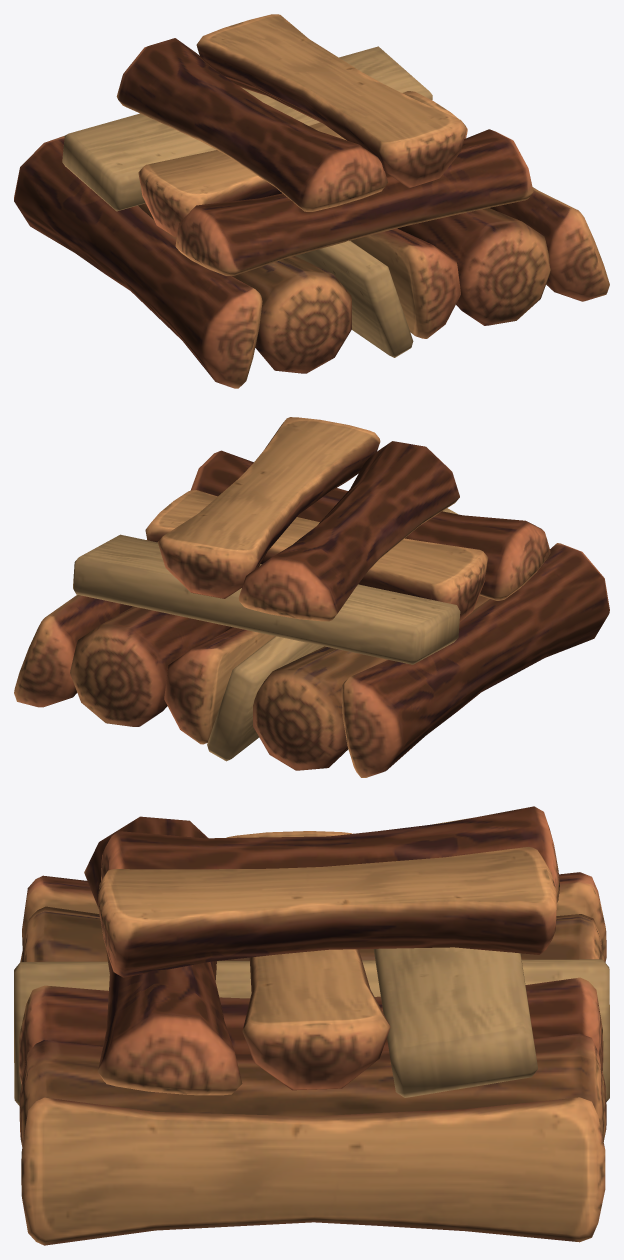
File: SM_Logs_Pyramid.obj
3 views of the same model, one above another, from view 1: azimuth 30°, elevation 25°; view 2: azimuth 150°, elevation 25°; view 3: azimuth 270°, elevation 25° (orthographic). The views are drawn at different scales.
Visible parts, largest first — view 1: SM_Logs_Pyramid_MI_CampFire_Assets; view 2: SM_Logs_Pyramid_MI_CampFire_Assets; view 3: SM_Logs_Pyramid_MI_CampFire_Assets.
Part boxes in pixels (<box>): SM_Logs_Pyramid_MI_CampFire_Assets: <box>14,14,609,388</box>; SM_Logs_Pyramid_MI_CampFire_Assets: <box>14,417,609,777</box>; SM_Logs_Pyramid_MI_CampFire_Assets: <box>14,806,609,1245</box>.
Bounding box in the file's own units: 0.6031 × 0.2705 × 0.5576.
